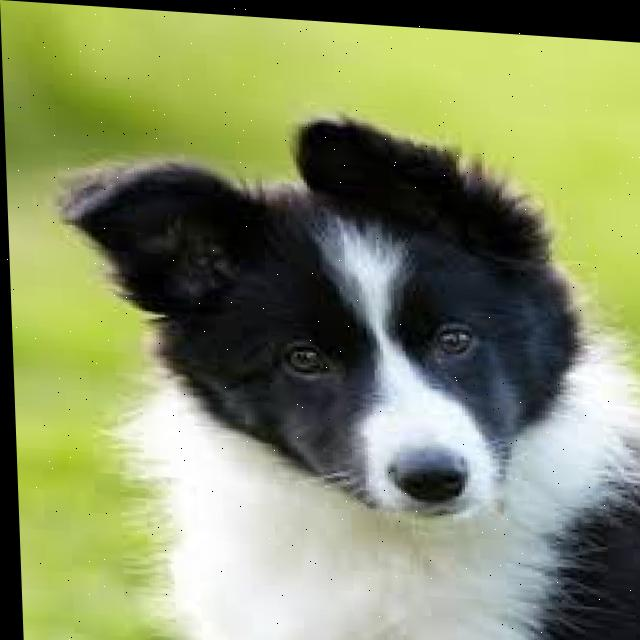BORDER_COLLIE: (53, 66, 640, 640)
